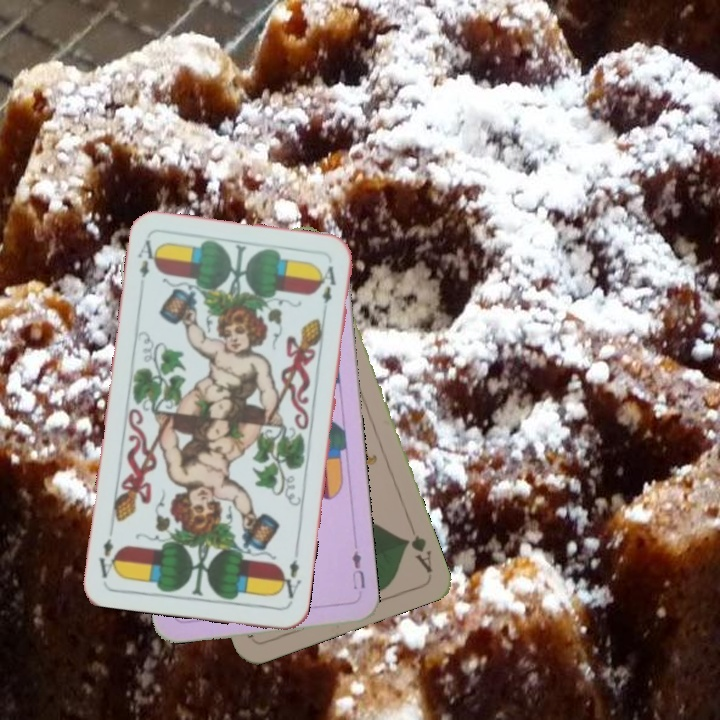EA: (275, 555, 304, 605), (133, 236, 161, 280)
EU: (348, 547, 368, 592)
GA: (400, 531, 435, 576)
